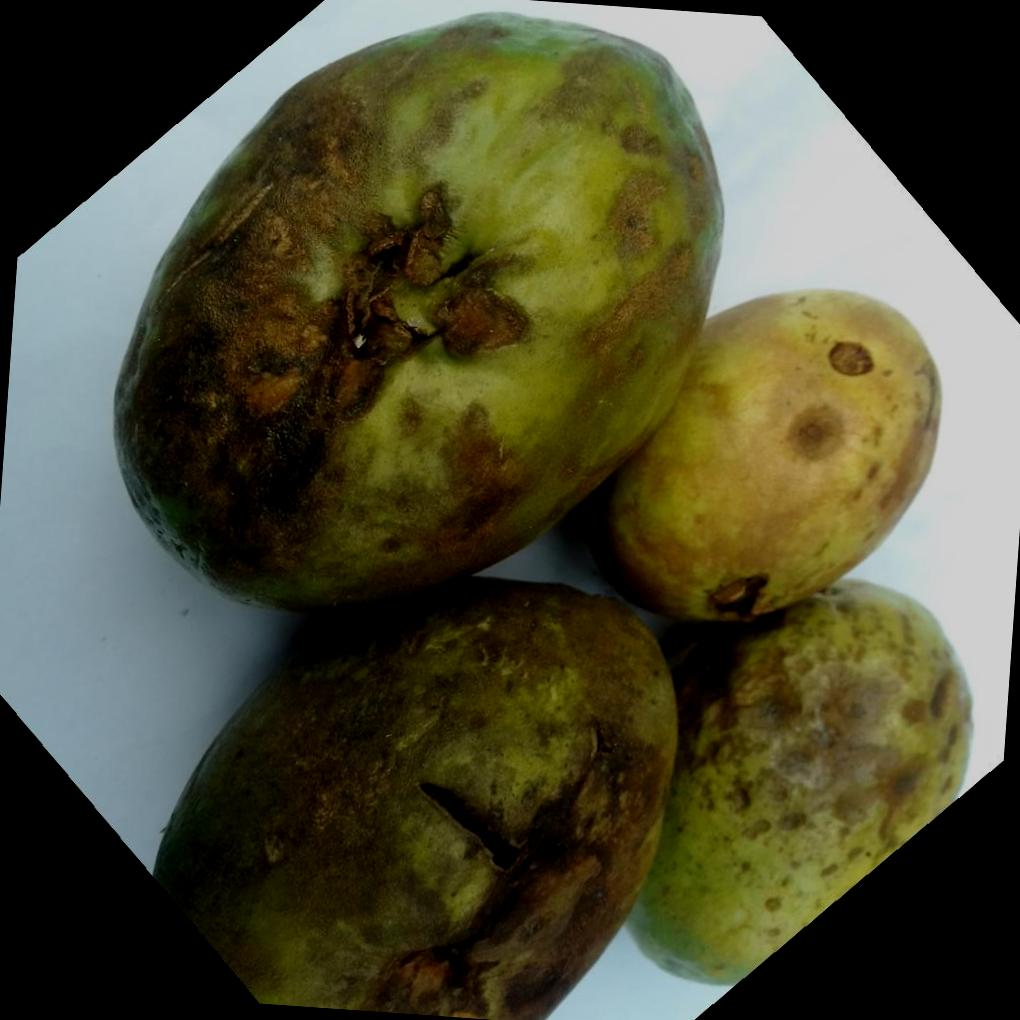FreshOrange: (108, 10, 975, 1020), (107, 9, 976, 1016)
